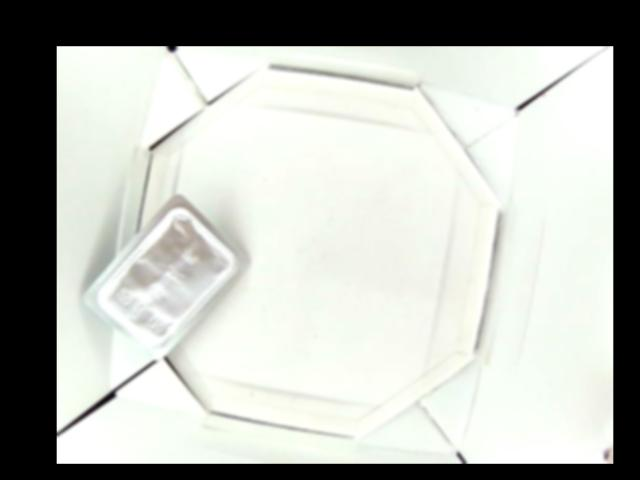Medicine: (85, 194, 249, 362)
